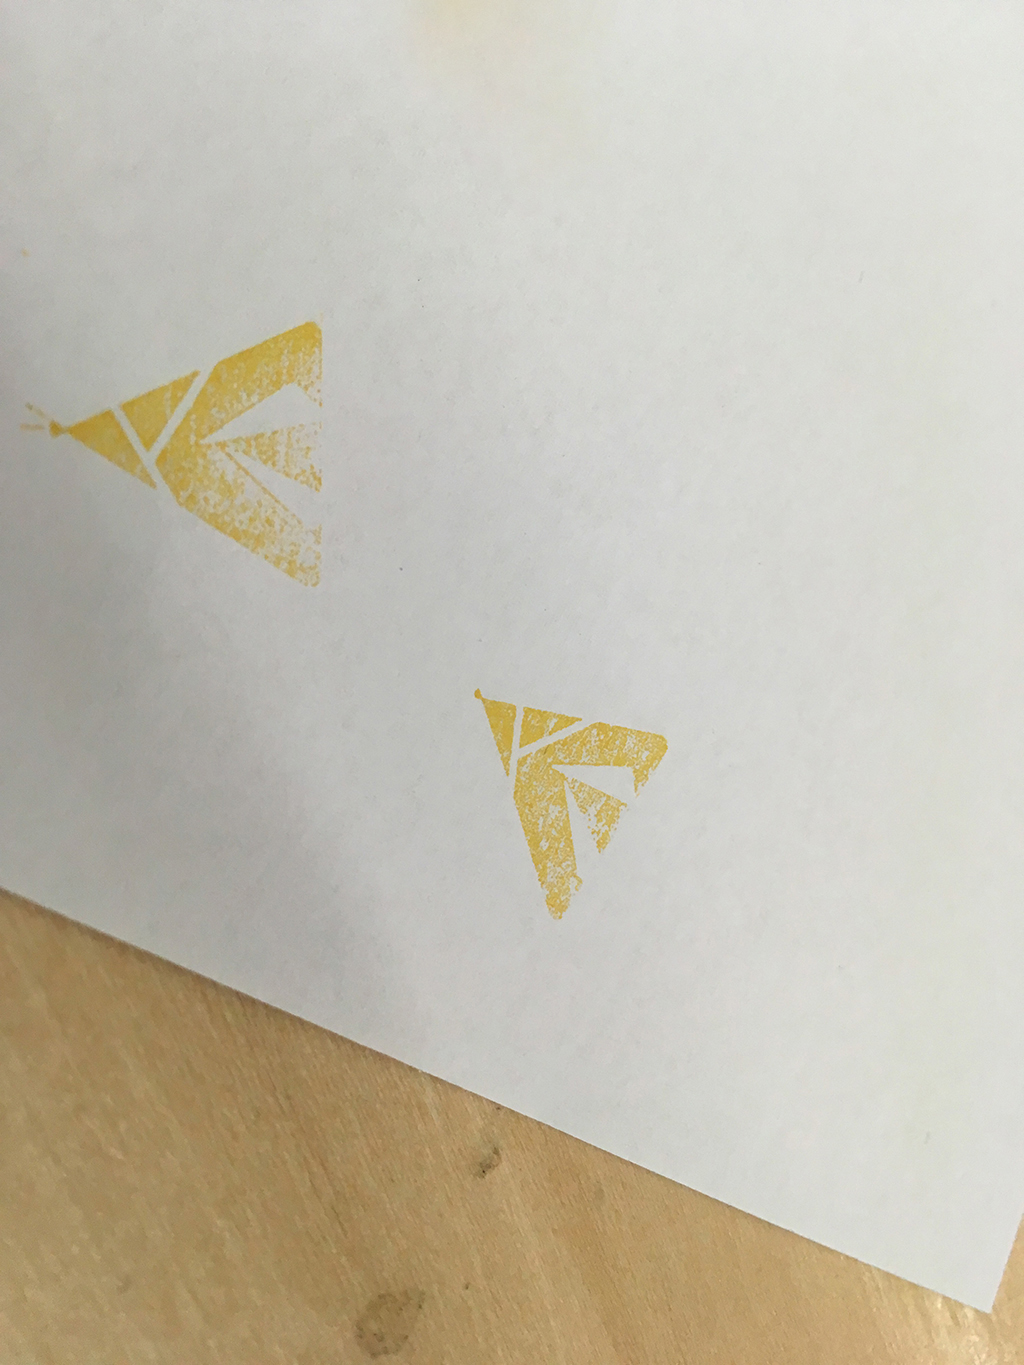tent: (8, 309, 335, 594), (463, 682, 683, 935)
